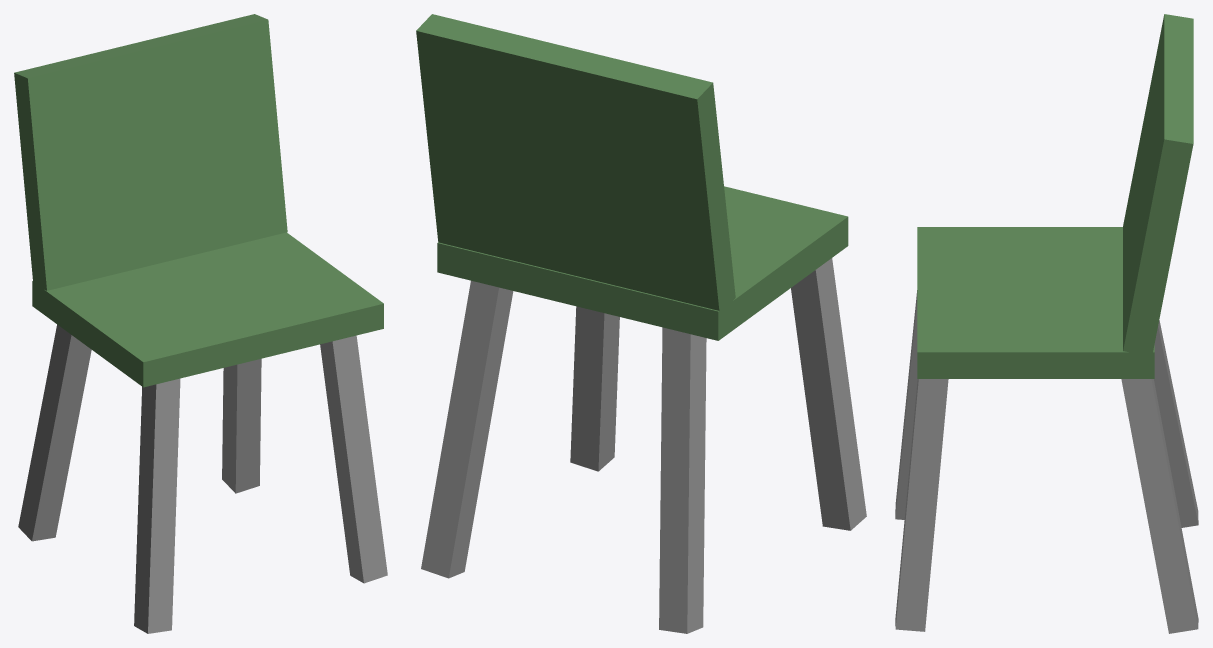
Rendered from RiscuitsChair.gltf.
The picture shows the model from 3 angles, left to right: view 1: azimuth 30°, elevation 25°; view 2: azimuth 150°, elevation 25°; view 3: azimuth 270°, elevation 25°; orthographic projection. The views are drawn at different scales.
Visible parts, largest first — view 1: cuboid (×6); view 2: cuboid (×6); view 3: cuboid (×6).
Boxes of the visible parts, x1,y1,x2,y2 form: cuboid (×6): (14, 14, 387, 633); cuboid (×6): (416, 14, 866, 633); cuboid (×6): (895, 14, 1198, 633).
Bounding box in the file's own units: 0.3199 × 0.5813 × 0.3195.
Materials: 2 (2 with a texture image).
